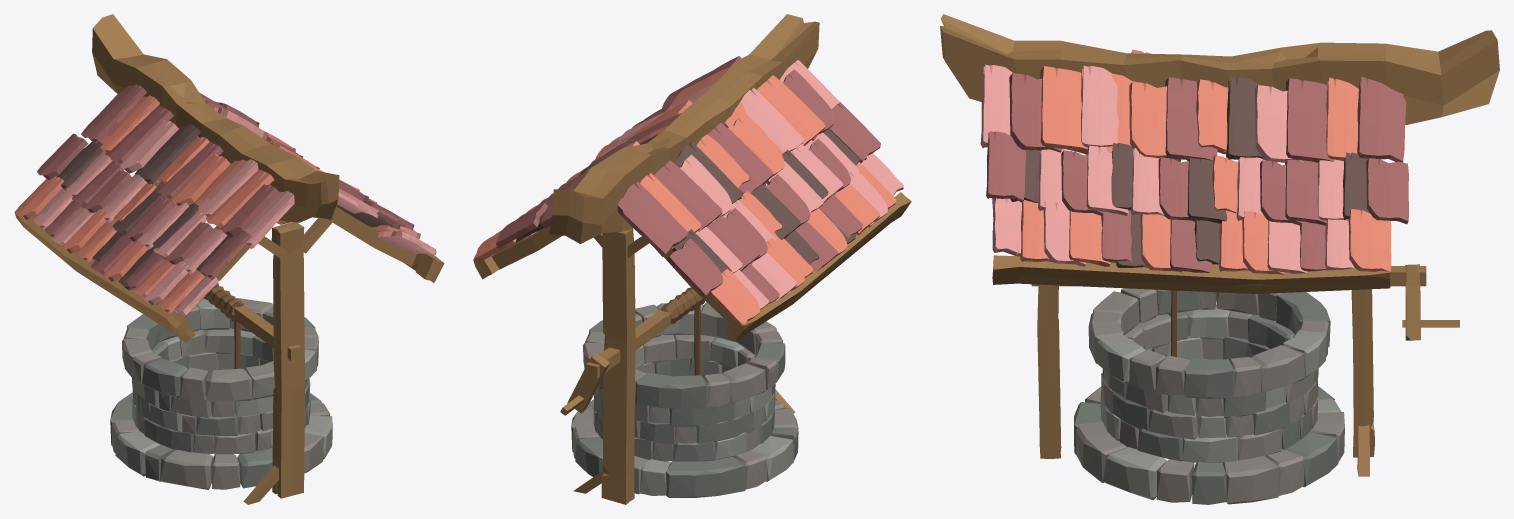
The model's file is Will.fbx.
The picture shows the model from 3 angles, left to right: view 1: azimuth 30°, elevation 25°; view 2: azimuth 150°, elevation 25°; view 3: azimuth 270°, elevation 25°; orthographic projection. The views are drawn at different scales.
Parts seen in each view (by area): view 1: Cube.024, Cube.020, Cube.021, Cube.032, Cube.019, Cube.018, Cube.027, Cube.017, Cube.074, Cube.030, Cube.068, Cube.076 (+43 smaller); view 2: Cube.024, Cube.020, Cube.032, Cube, Cube.019, Cube.018, Cube.027, Cube.017, Cube.076, Cube.064, Cube.072, Cube.048 (+37 smaller); view 3: Cube.024, Cube.020, Cube.032, Cube.027, Cube.019, Cube.018, Cube.017, Cube.021, Cube.076, Cube.072, Cube.067, Cube (+43 smaller).
Part boxes in pixels (bbox=[...]): Cube.024: bbox=[92, 14, 339, 224]; Cube.020: bbox=[122, 298, 318, 401]; Cube.021: bbox=[271, 222, 304, 498]; Cube.032: bbox=[110, 392, 332, 489]; Cube.019: bbox=[132, 328, 308, 417]; Cube.018: bbox=[132, 352, 310, 435]; Cube.027: bbox=[14, 211, 444, 343]; Cube.017: bbox=[132, 372, 310, 454]; Cube.074: bbox=[244, 188, 379, 249]; Cube.030: bbox=[174, 206, 416, 317]; Cube.068: bbox=[116, 107, 268, 173]; Cube.076: bbox=[81, 84, 224, 143]; Cube.024: bbox=[549, 14, 819, 243]; Cube.020: bbox=[583, 302, 785, 408]; Cube.032: bbox=[571, 399, 798, 497]; Cube: bbox=[601, 228, 635, 504]; Cube.019: bbox=[596, 334, 775, 426]; Cube.018: bbox=[594, 358, 775, 444]; Cube.027: bbox=[473, 192, 911, 340]; Cube.017: bbox=[593, 405, 774, 461]; Cube.076: bbox=[541, 181, 687, 256]; Cube.064: bbox=[496, 203, 723, 297]; Cube.072: bbox=[671, 66, 825, 145]; Cube.048: bbox=[620, 113, 773, 195]; Cube.024: bbox=[940, 14, 1499, 125]; Cube.020: bbox=[1088, 288, 1330, 398]; Cube.032: bbox=[1074, 386, 1344, 504]; Cube.027: bbox=[992, 255, 1390, 293]; Cube.019: bbox=[1102, 304, 1318, 418]; Cube.018: bbox=[1101, 336, 1318, 439]; Cube.017: bbox=[1100, 359, 1317, 462]; Cube.021: bbox=[1037, 284, 1061, 458]; Cube.076: bbox=[1357, 77, 1406, 162]; Cube.072: bbox=[1040, 66, 1087, 154]; Cube.067: bbox=[1286, 78, 1334, 162]; Cube: bbox=[1351, 289, 1374, 457].
Size of the model in its own units: 529 by 644 by 771.
